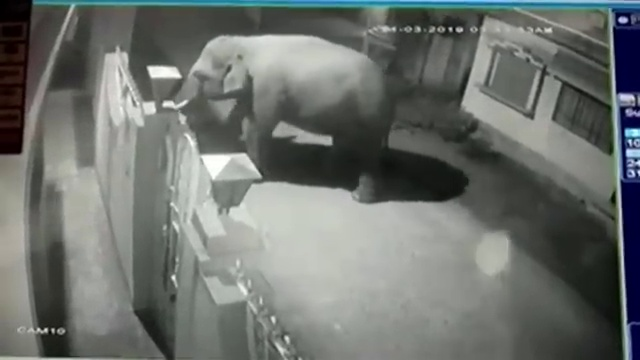Elephant: (174, 34, 392, 204)
